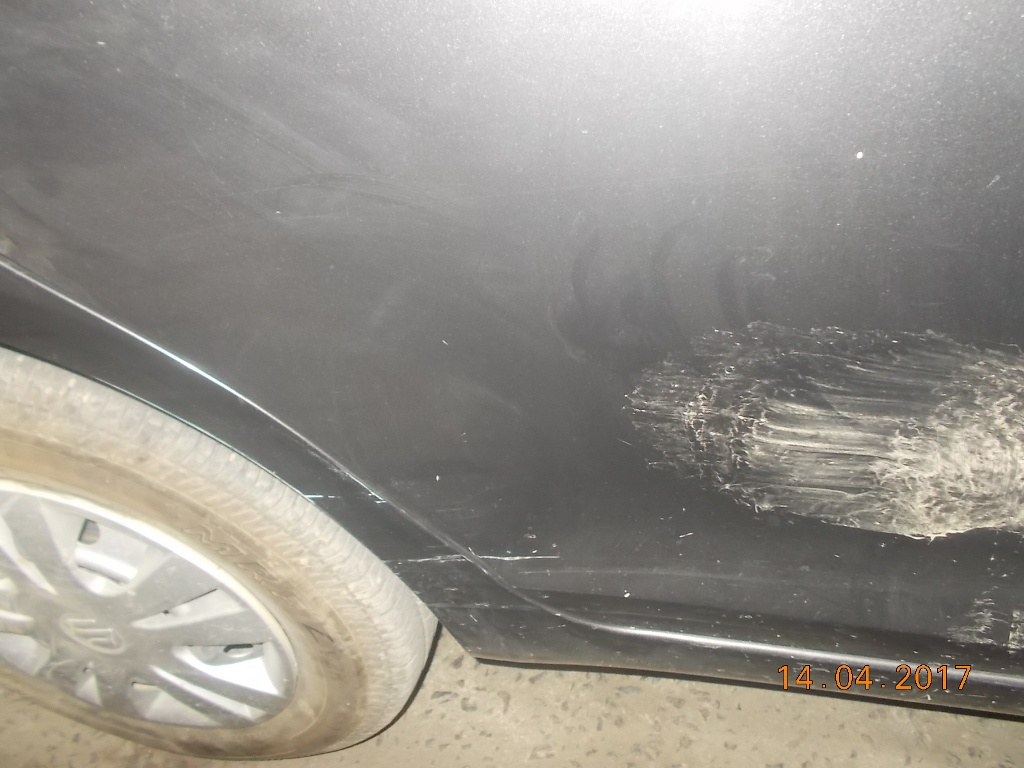Scratch_or_spot: (599, 272, 1023, 569)
